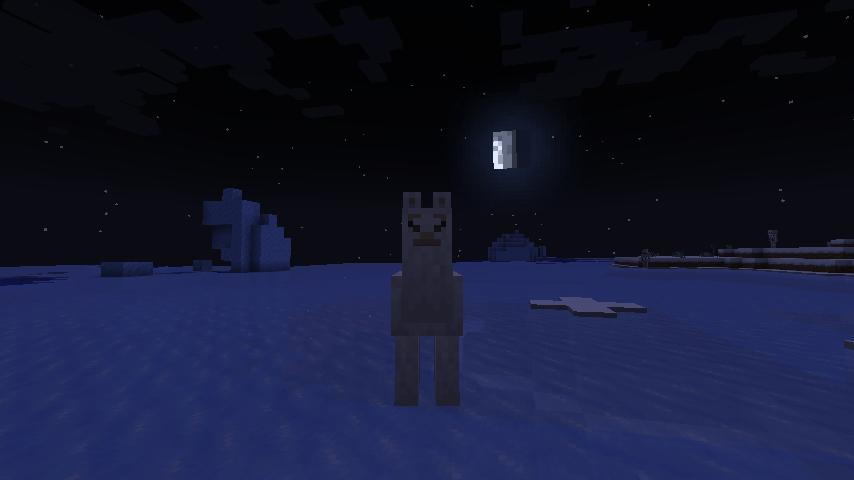llama: (389, 187, 465, 410)
